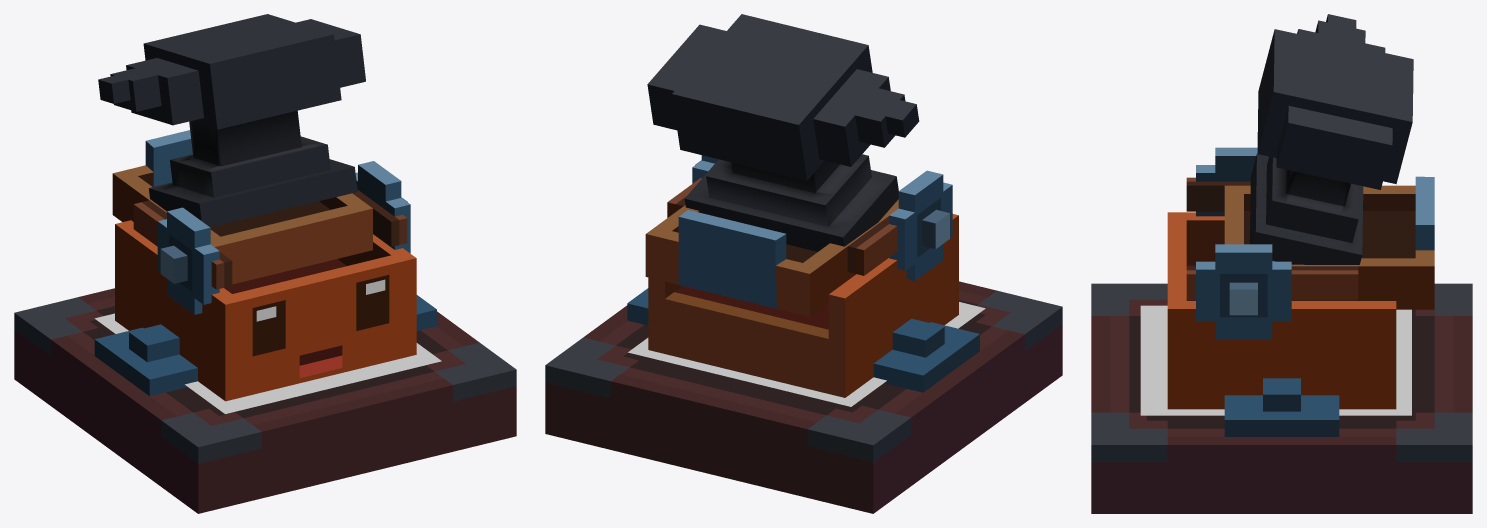
File: Tower_Pult_L3.fbx
3 views of the same model, side by side, from view 1: azimuth 30°, elevation 25°; view 2: azimuth 150°, elevation 25°; view 3: azimuth 270°, elevation 25° (orthographic). The views are drawn at different scales.
Visible parts, largest first — view 1: Base, Body, Anvil, Bucket, Hinge, Shadow, Arms; view 2: Base, Anvil, Body, Bucket, Hinge, Shadow, Arms; view 3: Base, Anvil, Body, Bucket, Hinge, Shadow, Arms.
Boxes of the visible parts, box(x1,y1,x2,y2) form: Base: box(14, 288, 516, 513); Body: box(94, 220, 436, 401); Anvil: box(98, 14, 365, 226); Bucket: box(112, 130, 372, 284); Hinge: box(157, 161, 410, 314); Shadow: box(94, 313, 441, 413); Arms: box(133, 189, 407, 289); Base: box(545, 281, 1062, 513); Anvil: box(647, 14, 919, 251); Body: box(627, 214, 979, 397); Bucket: box(645, 199, 898, 316); Hinge: box(692, 155, 952, 280); Shadow: box(628, 302, 985, 406); Arms: box(667, 178, 897, 275); Base: box(1091, 283, 1472, 513); Anvil: box(1249, 14, 1413, 264); Body: box(1167, 212, 1396, 436); Bucket: box(1224, 176, 1434, 309); Hinge: box(1196, 147, 1291, 338); Shadow: box(1140, 305, 1411, 415); Arms: box(1186, 177, 1358, 300).
Bounding box in the file's own units: 100 × 108 × 100.
